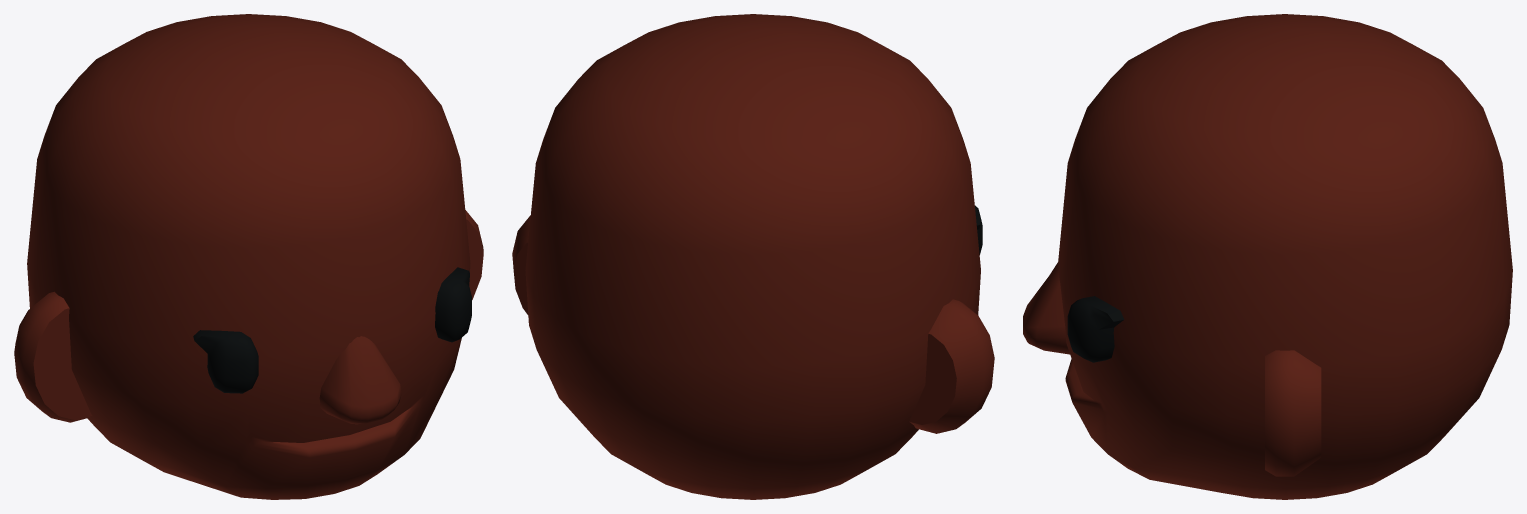
The model's file is head_female.fbx.
3 views of the same model, side by side, from view 1: azimuth 30°, elevation 25°; view 2: azimuth 150°, elevation 25°; view 3: azimuth 270°, elevation 25° (orthographic). The views are drawn at different scales.
Visible parts, largest first — view 1: head_female; view 2: head_female; view 3: head_female.
Boxes of the visible parts, left/top/right/bottom form: head_female: left=14, top=14, right=483, bottom=499; head_female: left=512, top=14, right=994, bottom=499; head_female: left=1023, top=14, right=1512, bottom=499.
Size of the model in its own units: 118 by 97.03 by 105.
